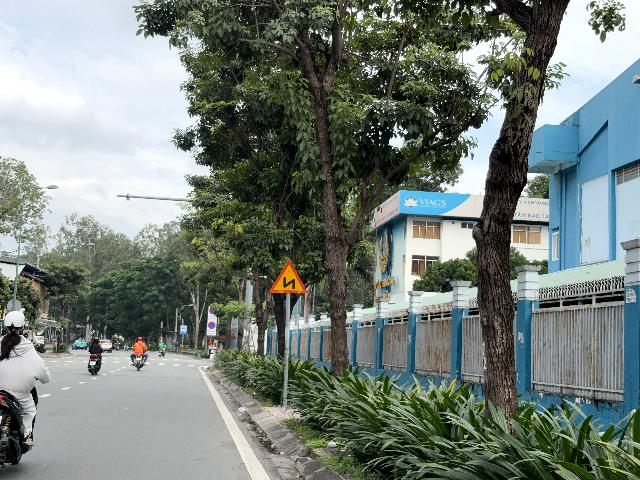nhieu-cho-ngoat-nguy-hiem-lien-tiep: (269, 260, 307, 293)
